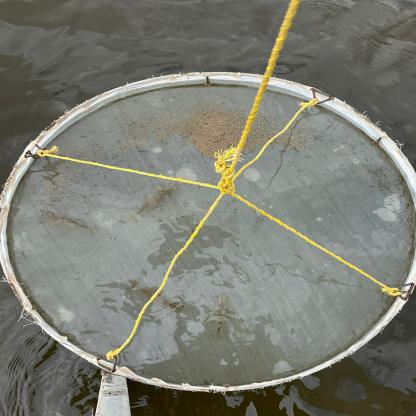shrimp: (125, 183, 180, 223)
